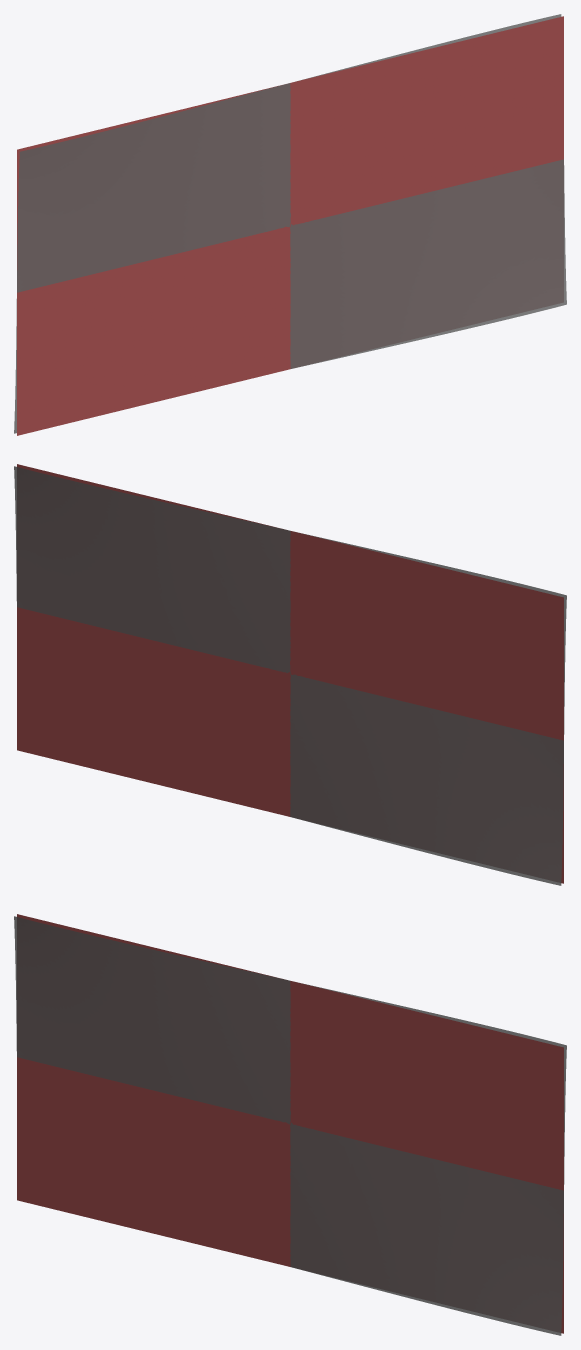
File: warping-rectangle-80-160-10324.glb
The picture shows the model from 3 angles, top to bottom: view 1: azimuth 30°, elevation 25°; view 2: azimuth 150°, elevation 25°; view 3: azimuth 330°, elevation 25°; orthographic projection.
Visible parts, largest first — view 1: undeformed cross-section, cross-section with warping; view 2: undeformed cross-section, cross-section with warping; view 3: undeformed cross-section, cross-section with warping.
Part boxes in pixels (left/top/right/bottom): undeformed cross-section: left=17, top=16, right=563, bottom=435; cross-section with warping: left=14, top=14, right=566, bottom=433; undeformed cross-section: left=17, top=464, right=563, bottom=883; cross-section with warping: left=14, top=466, right=566, bottom=885; undeformed cross-section: left=17, top=914, right=563, bottom=1333; cross-section with warping: left=14, top=916, right=566, bottom=1335.
Size of the model in its own units: 0.16 by 0.08 by 0.00336.
